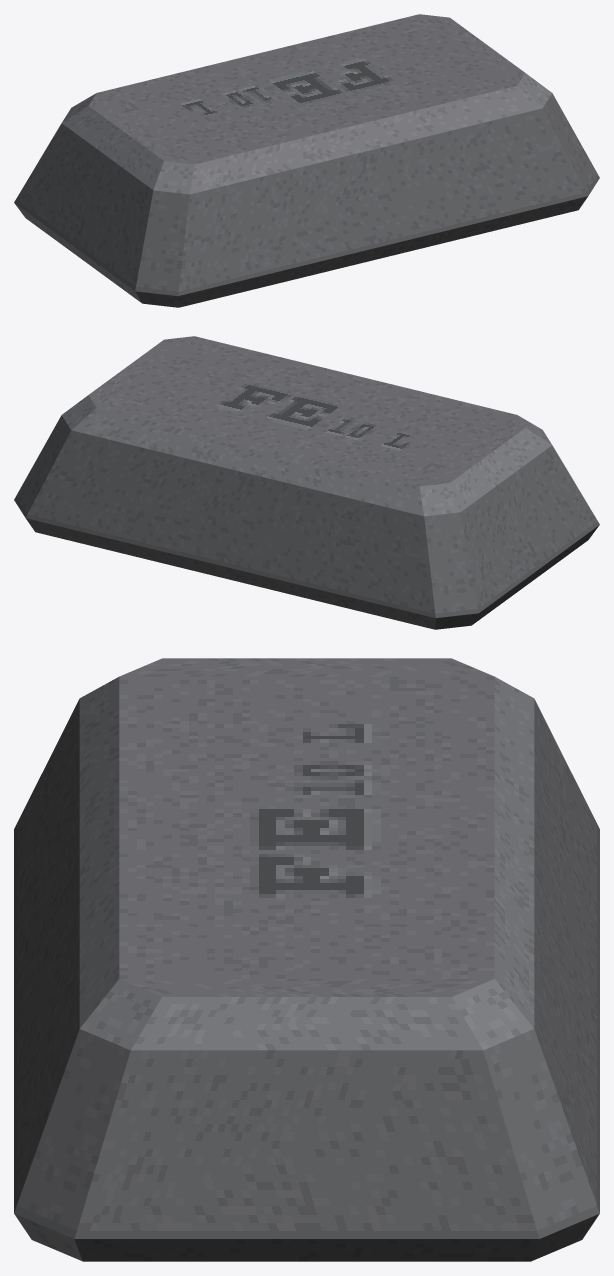
The model's file is 10l_iron.glb.
3 renders of one model, top to bottom at view 1: azimuth 30°, elevation 25°; view 2: azimuth 150°, elevation 25°; view 3: azimuth 270°, elevation 25°, orthographic. The views are drawn at different scales.
Visible parts, largest first — view 1: block_one-piece cast ingot; view 2: block_one-piece cast ingot; view 3: block_one-piece cast ingot.
Part boxes in pixels (<box>): block_one-piece cast ingot: <box>14,14,599,307</box>; block_one-piece cast ingot: <box>14,336,599,629</box>; block_one-piece cast ingot: <box>14,658,599,1261</box>.
Bounding box in the file's own units: 0.39 × 0.0939 × 0.2218.
1 material, 1 textured.
